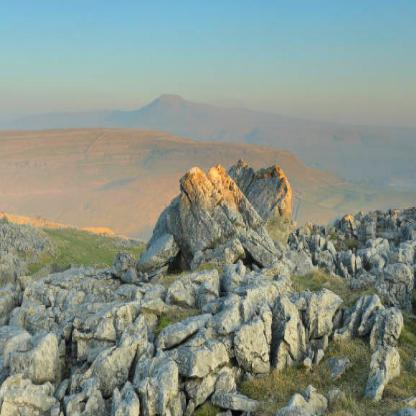Sedimentary_Limestone: (159, 156, 279, 280), (69, 336, 145, 394), (0, 335, 74, 382), (176, 337, 232, 392), (274, 293, 306, 371)
